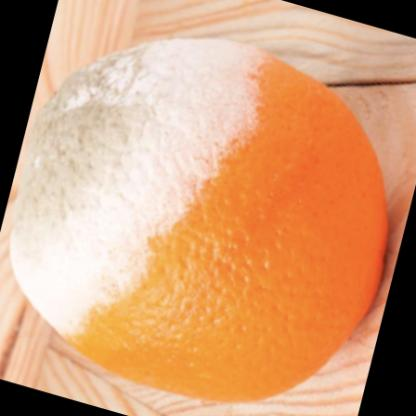rotten: (16, 39, 391, 401)
